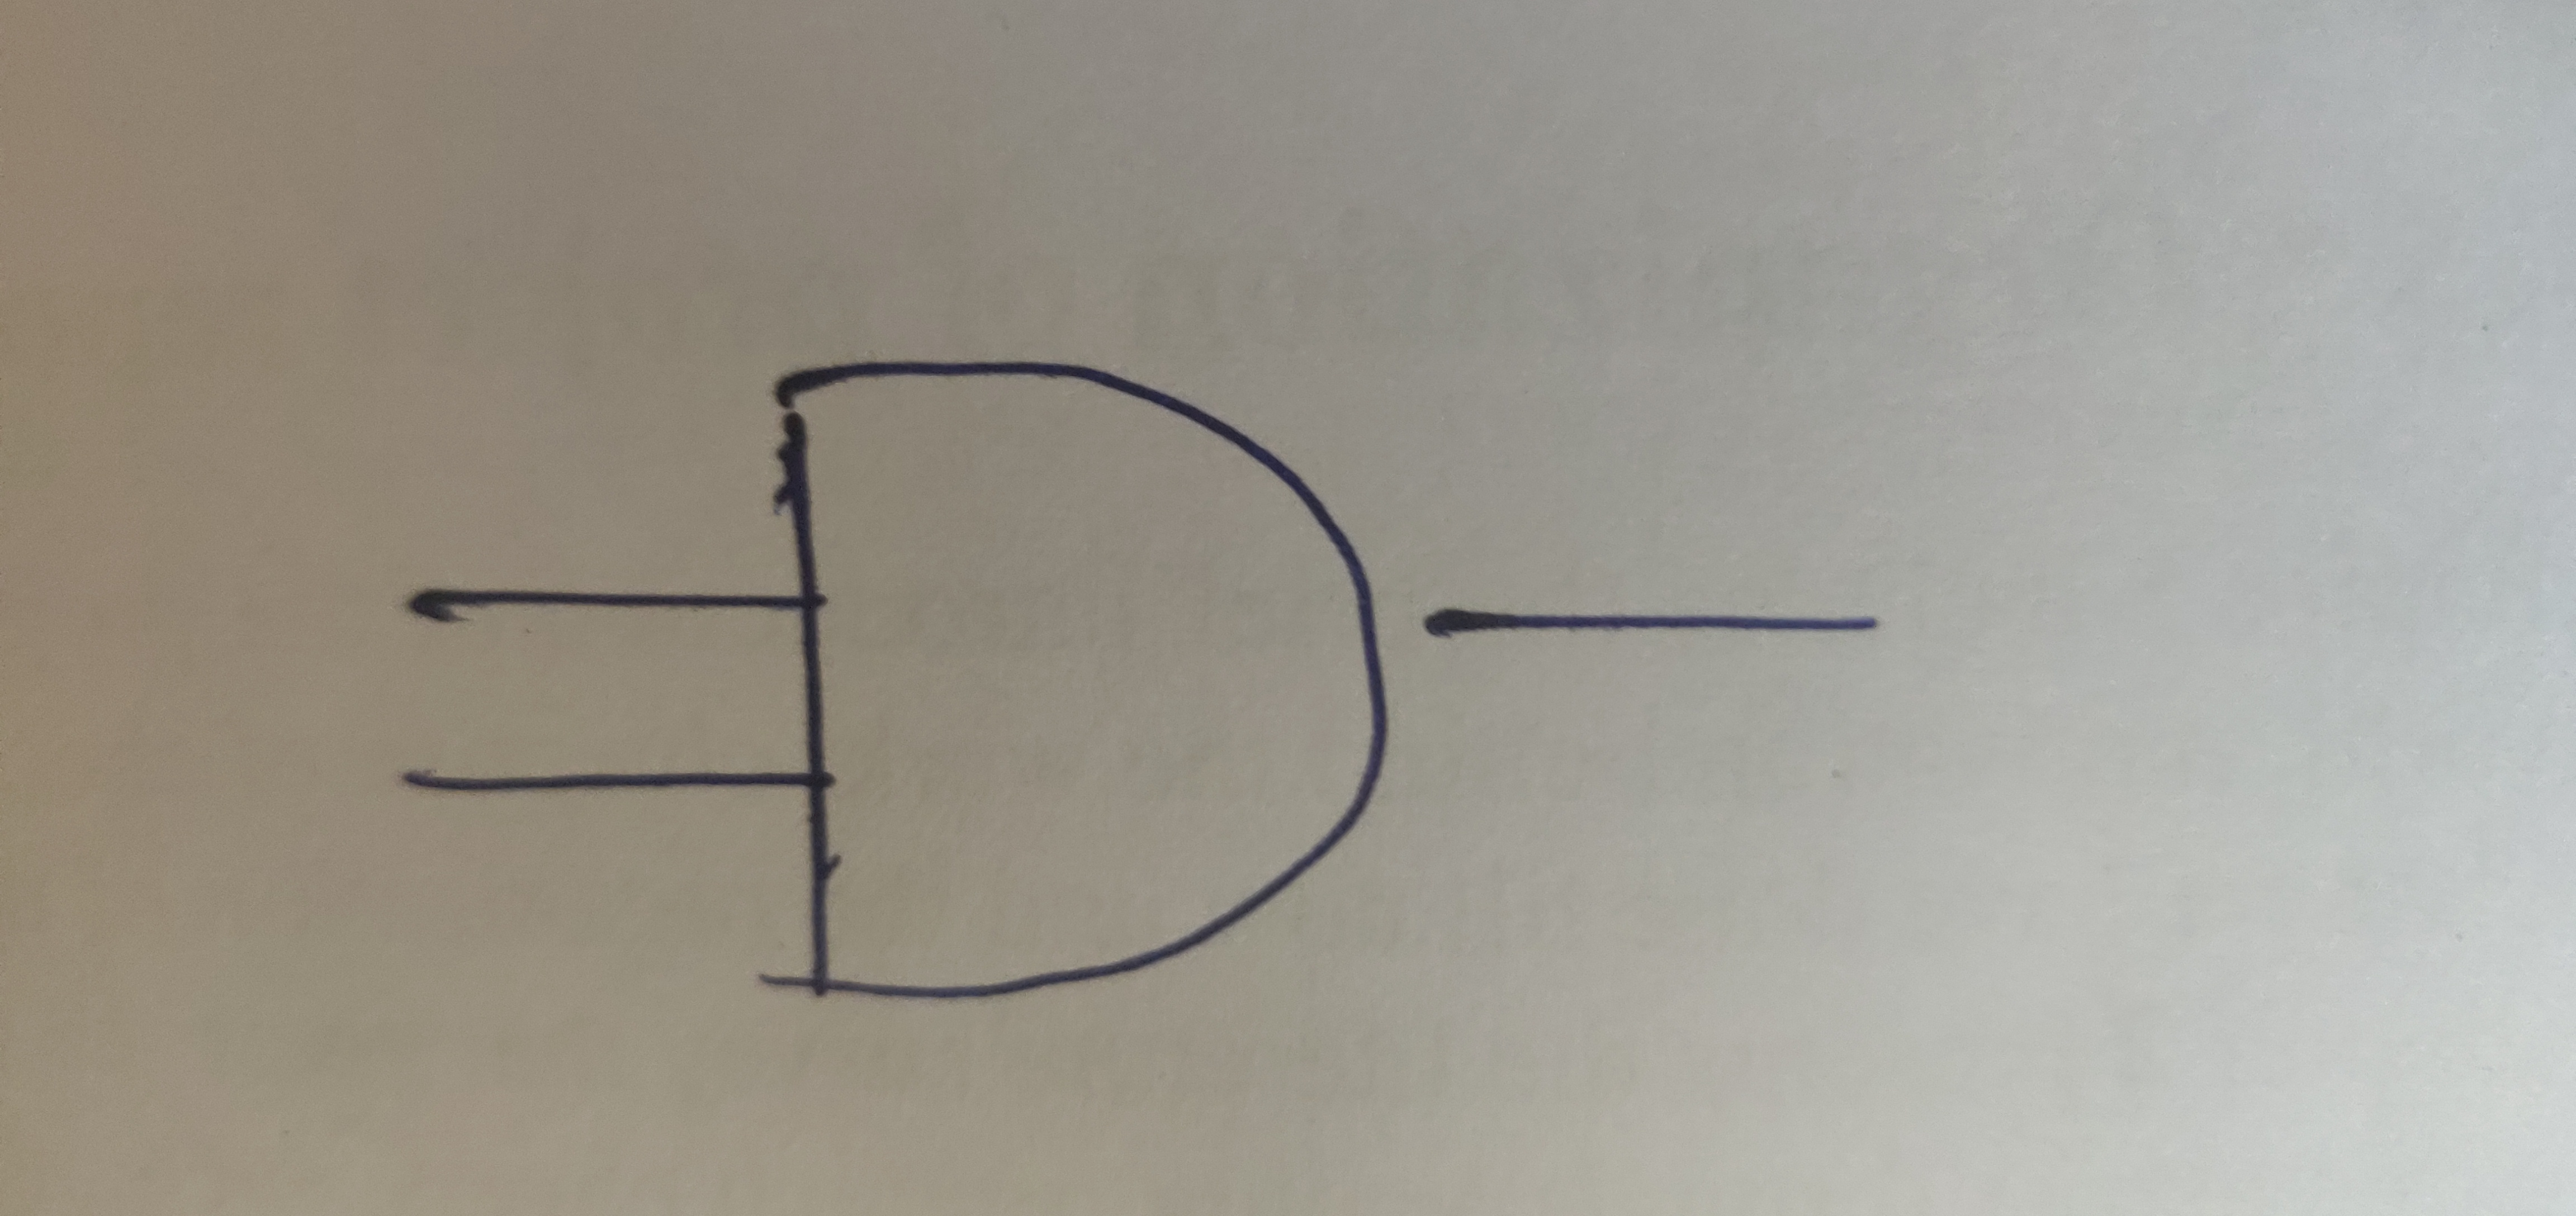and: (664, 289, 1567, 1104)
